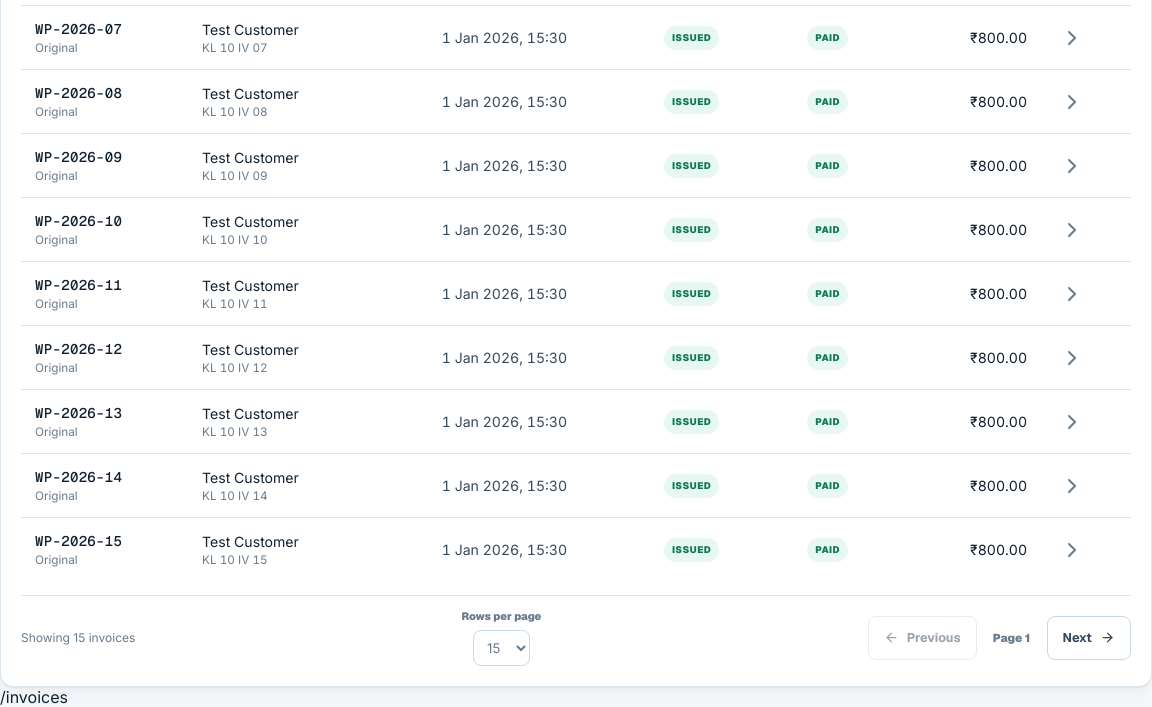
Test: Invoices directory — server-side pagination › loads the previous page from the cursor history when Previous is clicked
The width and height of the screenshot is (1152, 707).
(page scrolled)
Click the button "Next" at (1089, 638), box [1047,616,1131,660]
(page scrolled)
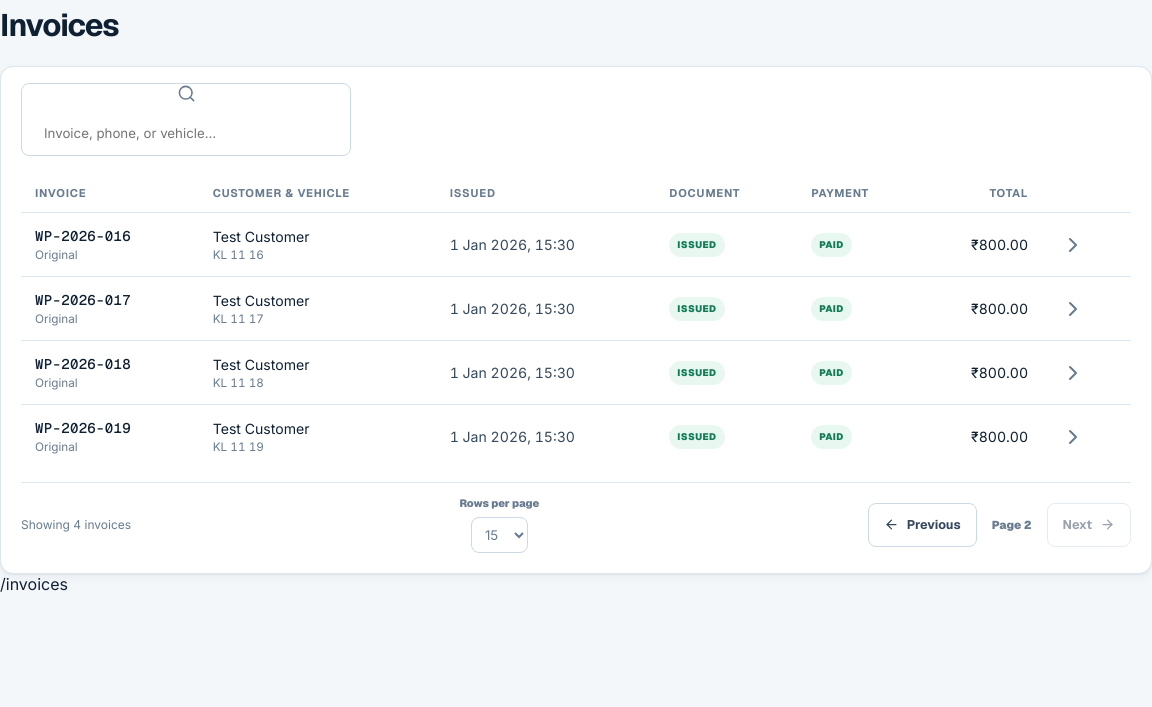
Expected: the text "WP-2026-016" is shown, [35,227,131,245]
Click the button "Previous" at (922, 525), box [868,503,977,547]
(page scrolled)
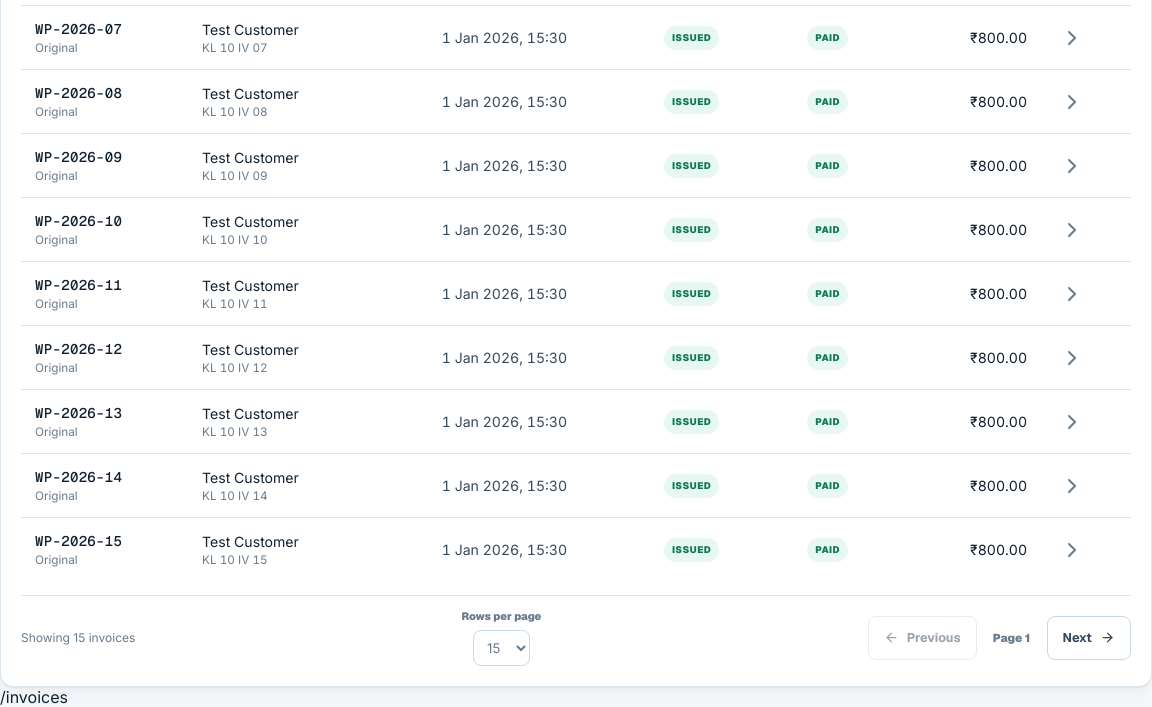
Expected: the text "Page 1" is shown, [993,630,1030,645]
